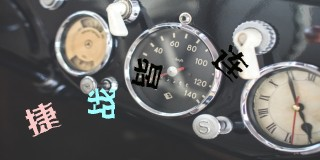战: (86, 88, 116, 121)
捷: (24, 102, 61, 137)
皆: (131, 58, 163, 90)
连: (212, 43, 247, 81)
